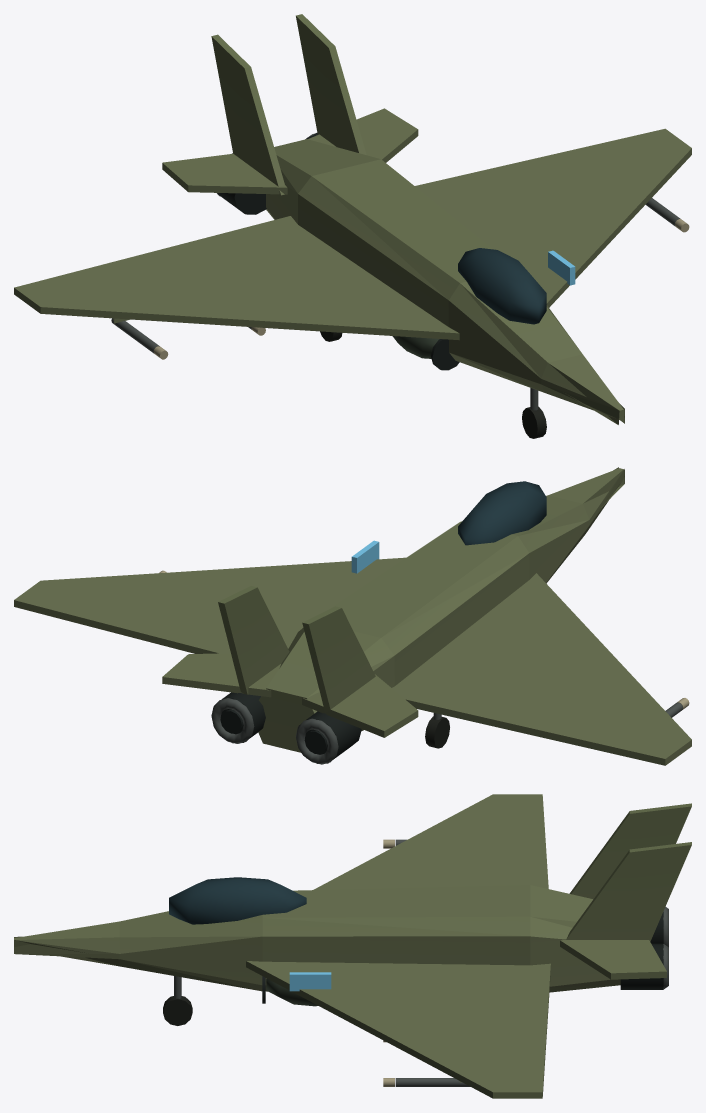
Rendered from attackAircraft-lod.glb.
3 views of the same model, one above another, from view 1: azimuth 30°, elevation 25°; view 2: azimuth 150°, elevation 25°; view 3: azimuth 270°, elevation 25° (orthographic). The views are drawn at different scales.
Parts seen in each view (by area): view 1: equipment (×2); view 2: equipment (×2), marking; view 3: equipment (×2), marking.
Part boxes in pixels (x1,y1,x2,y2): equipment (×2): (14, 14, 691, 438); equipment (×2): (14, 467, 691, 765); marking: (351, 540, 379, 573); equipment (×2): (14, 794, 691, 1098); marking: (289, 972, 331, 991).
Size of the model in its own units: 8.5 by 2.64 by 8.17.
